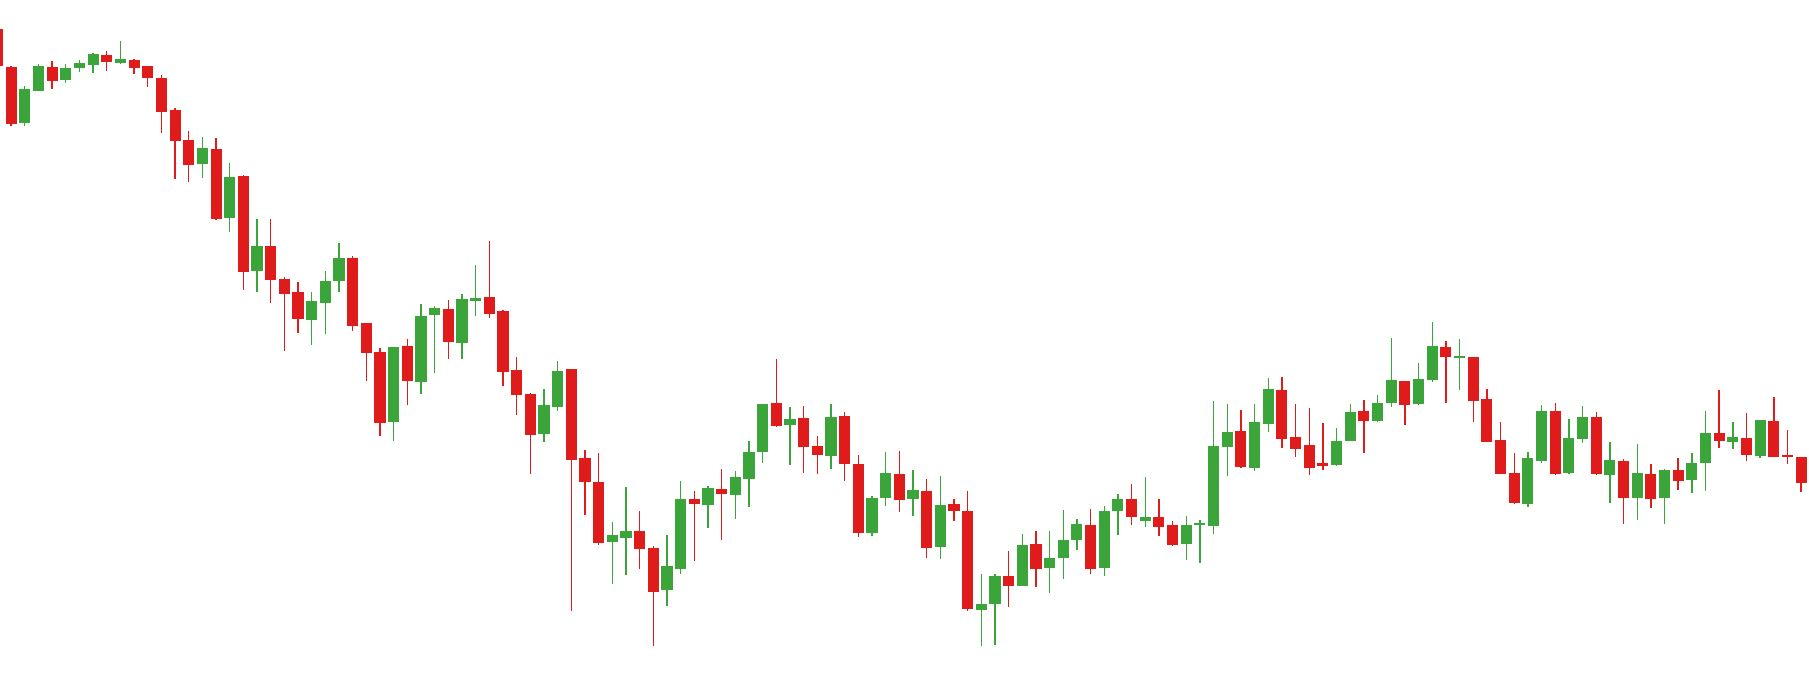sell: (1384, 320, 1451, 394)
